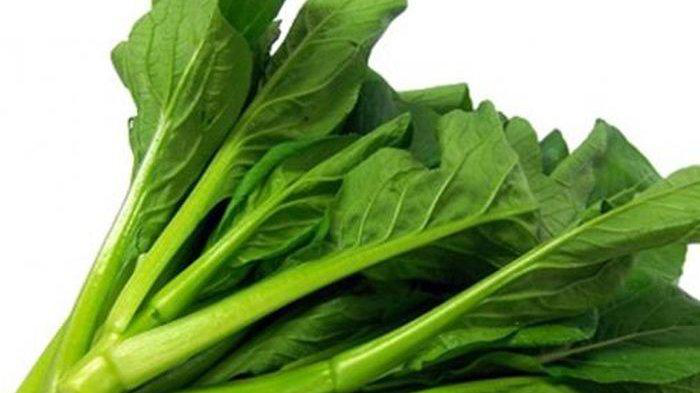Sawi: (81, 175, 651, 388)
